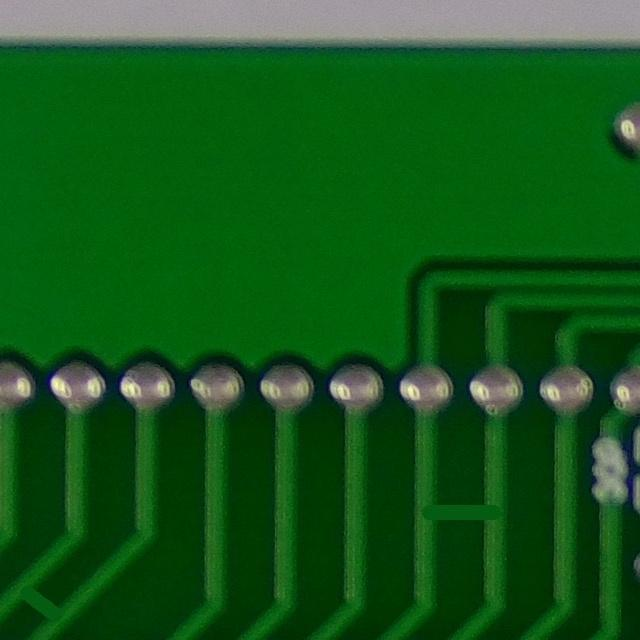short: (406, 479, 512, 549), (0, 574, 76, 636)
